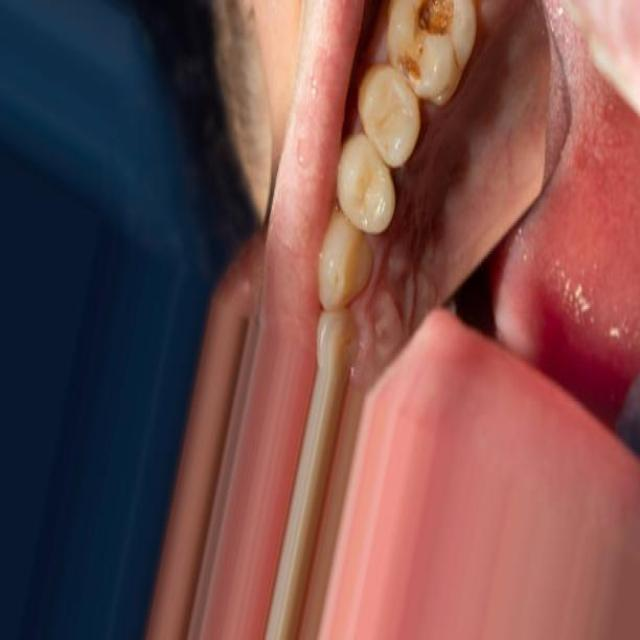caries: (405, 0, 465, 43), (393, 37, 433, 98)
